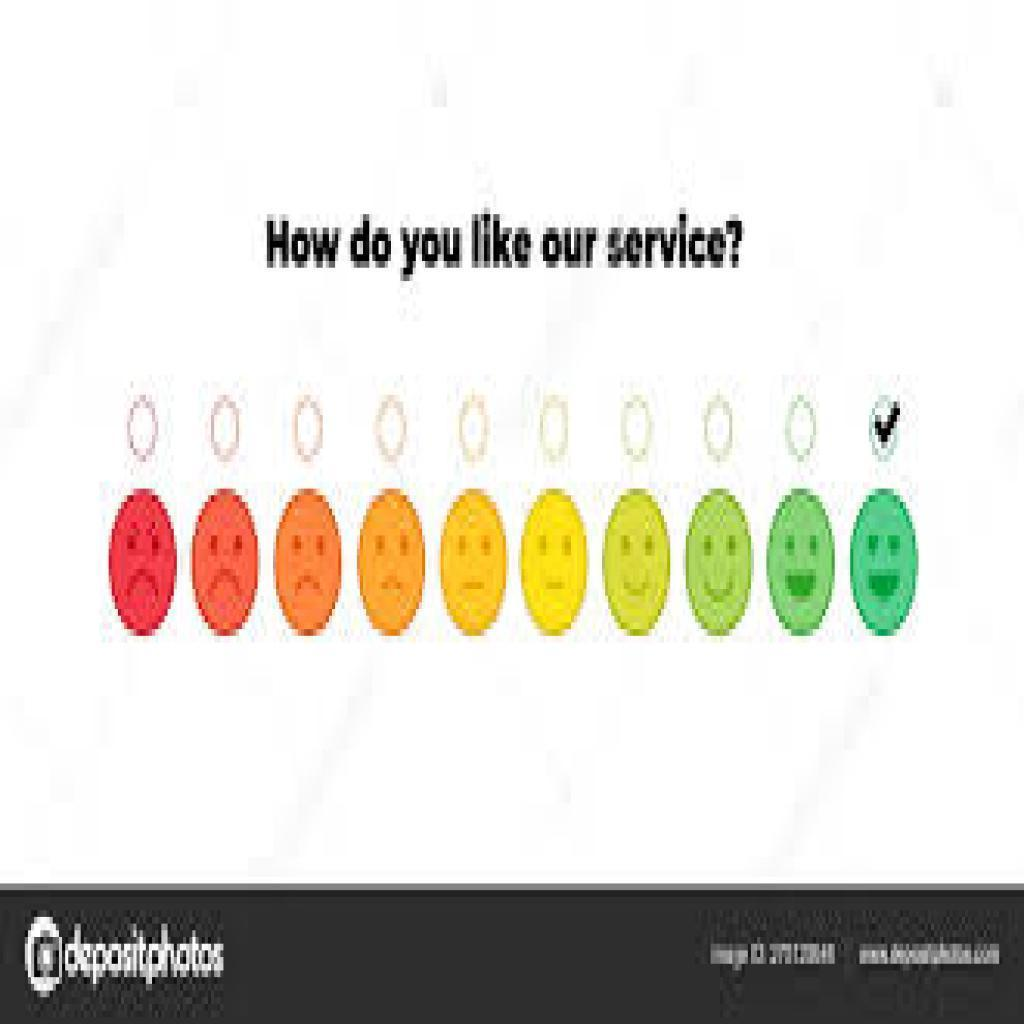radio: (281, 391, 331, 468), (121, 385, 167, 465), (453, 396, 502, 470), (614, 390, 662, 464), (372, 390, 416, 467), (699, 389, 741, 468), (782, 389, 823, 468), (207, 387, 249, 464), (866, 393, 908, 469), (535, 394, 578, 468)
